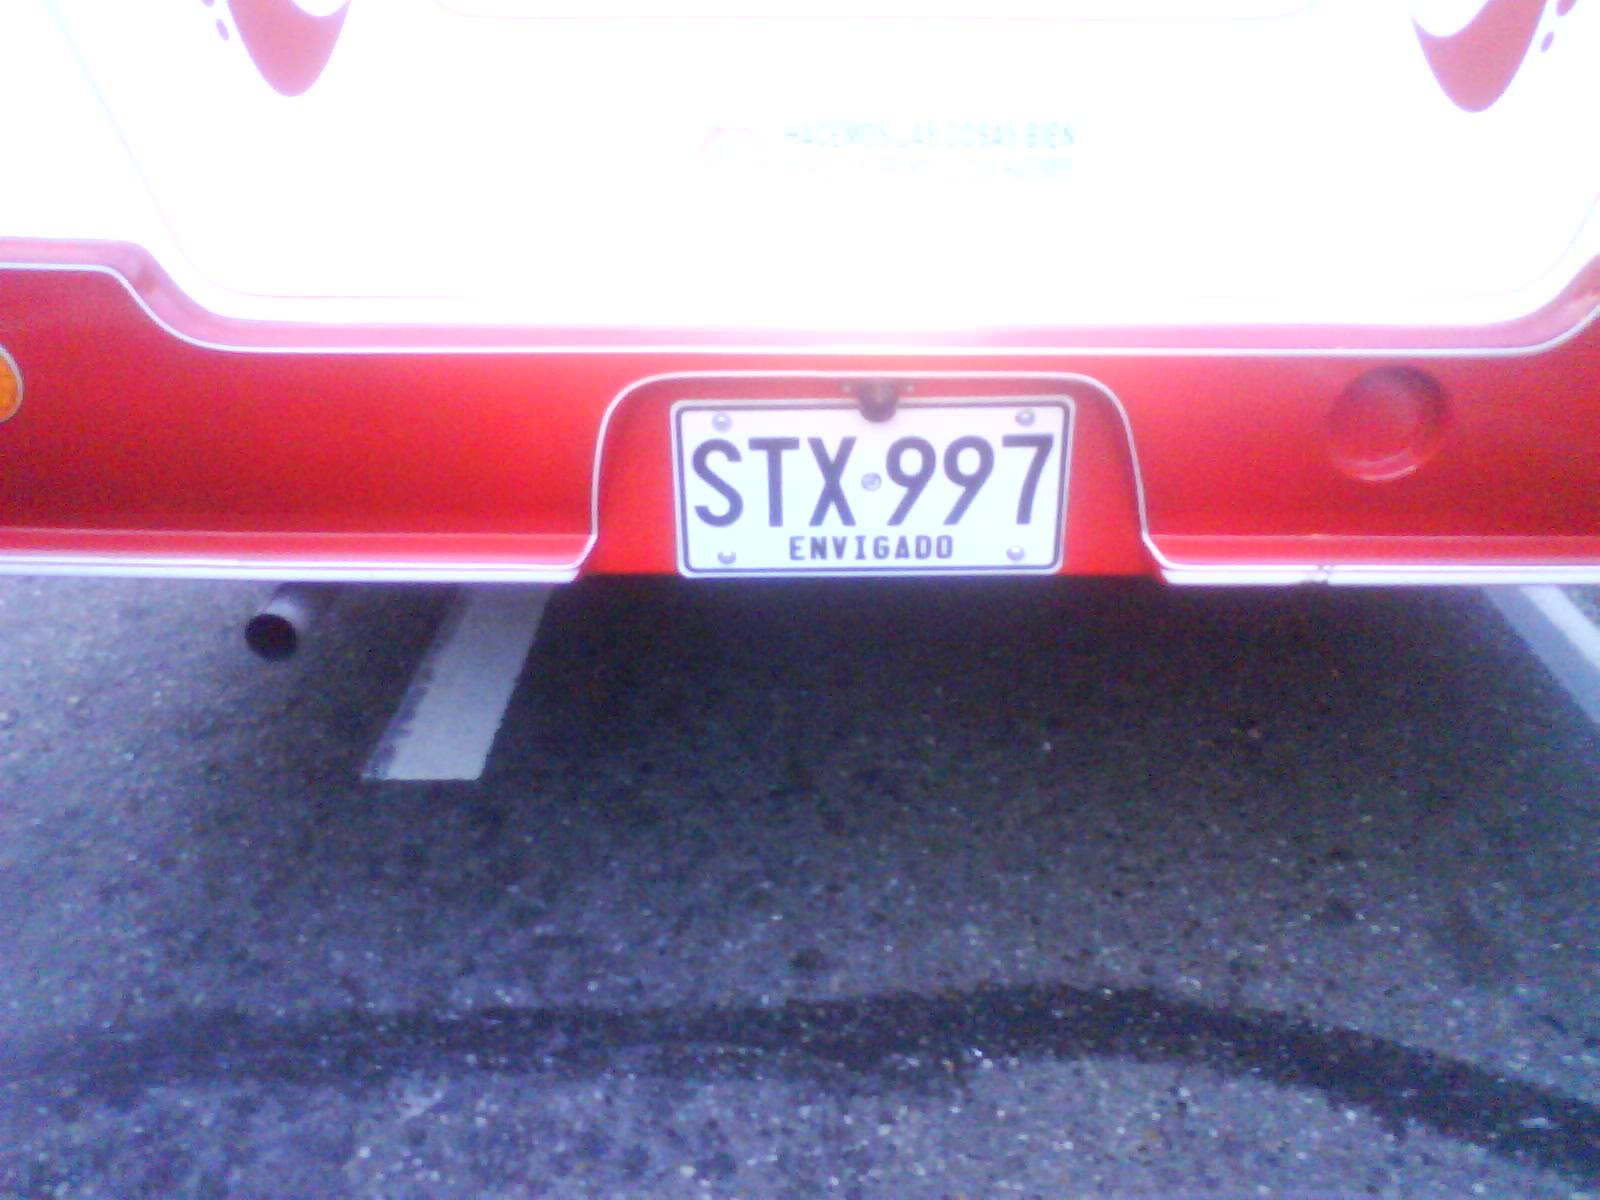placas: (664, 388, 1078, 583)
